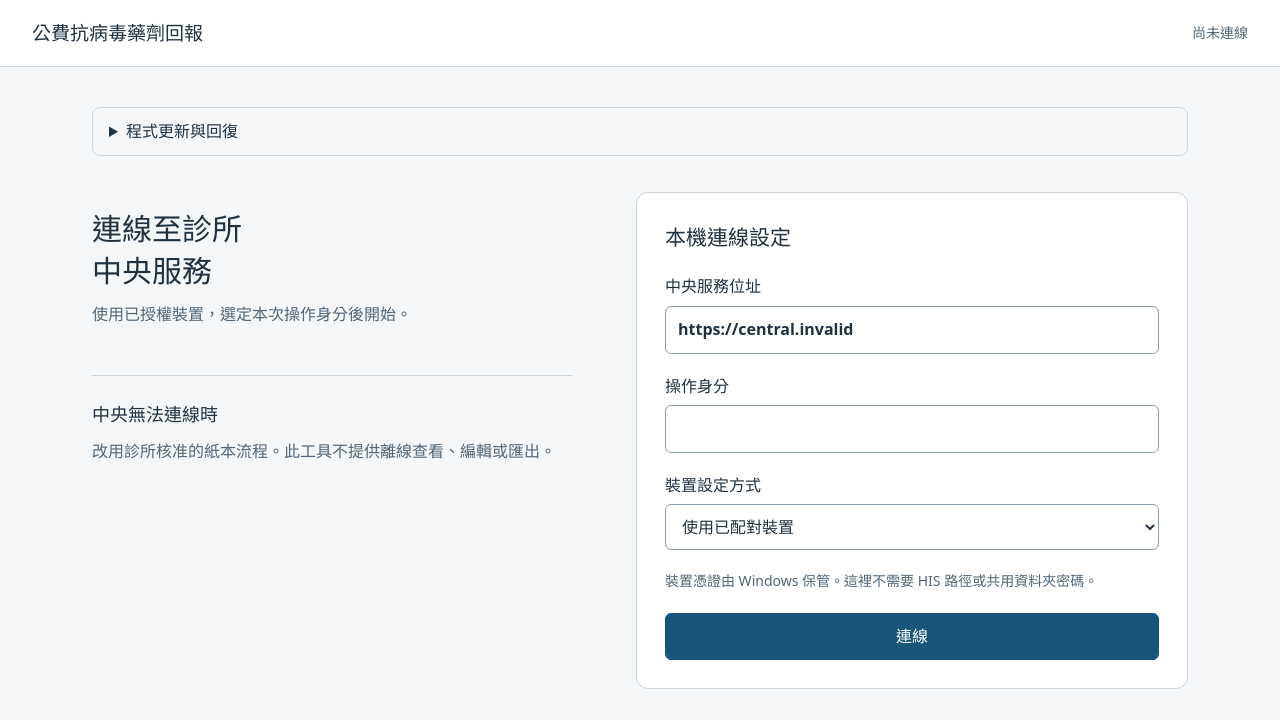
Test case: device loading, recoverable failure and empty recovery are explicit
Expected: the field showing "https://central.invalid" is shown, [665, 306, 1159, 354]
Type "管理者" into the field labelled "操作身分".
click(912, 429); type("管理者")  # box [665, 405, 1159, 453]
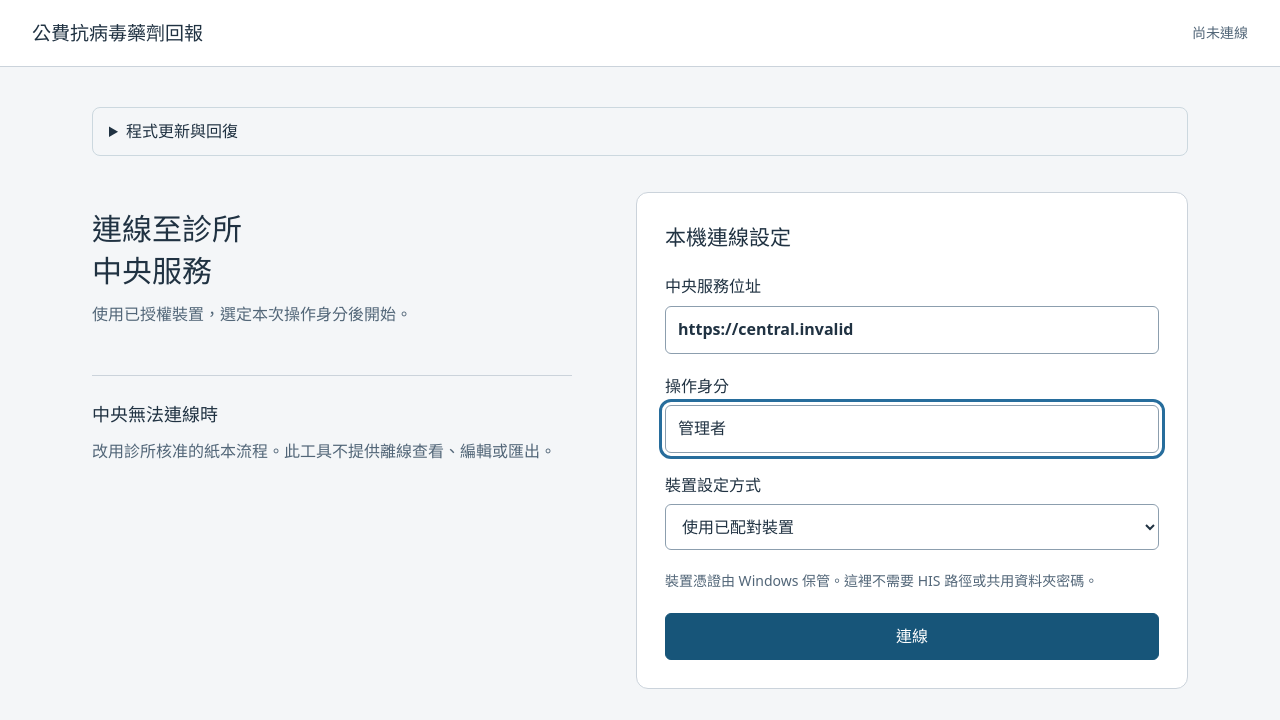
Click the button "連線".
click(912, 636)  # box [665, 613, 1159, 660]
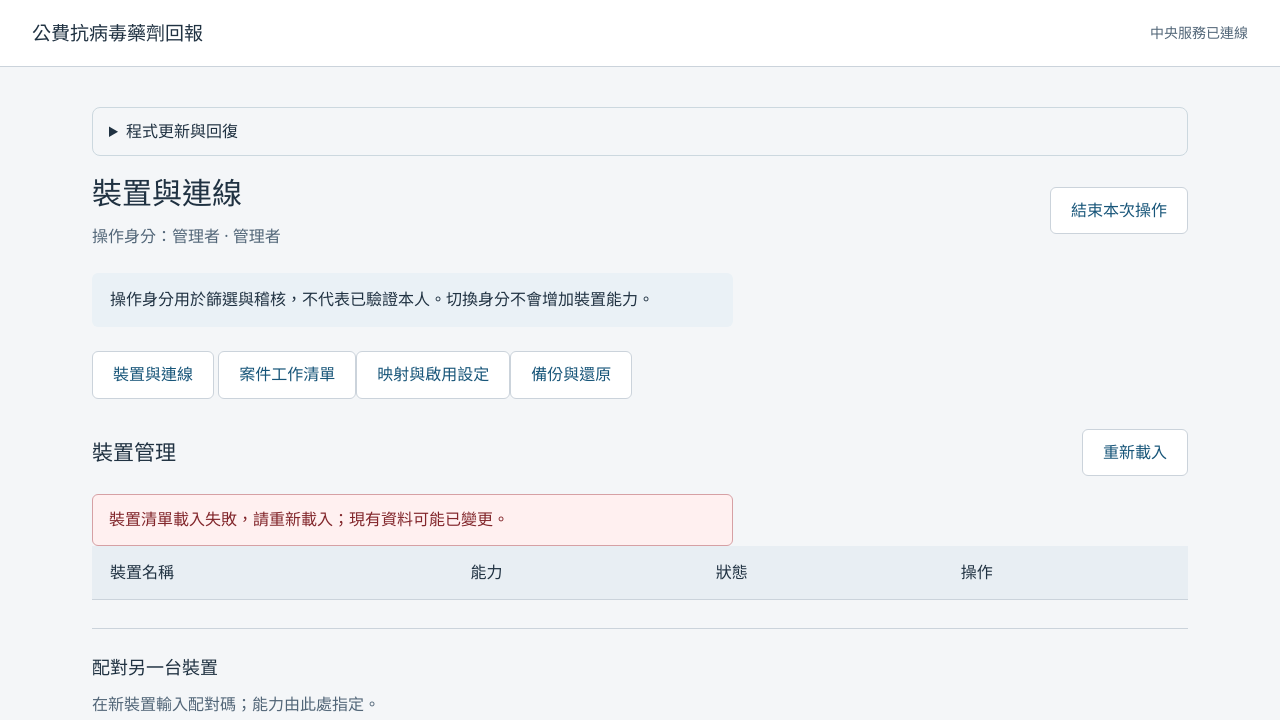
Result: the message shows "載入失敗" at [109, 508, 509, 530]
Click the button "重新載入".
click(1135, 452)  # box [1082, 428, 1188, 476]
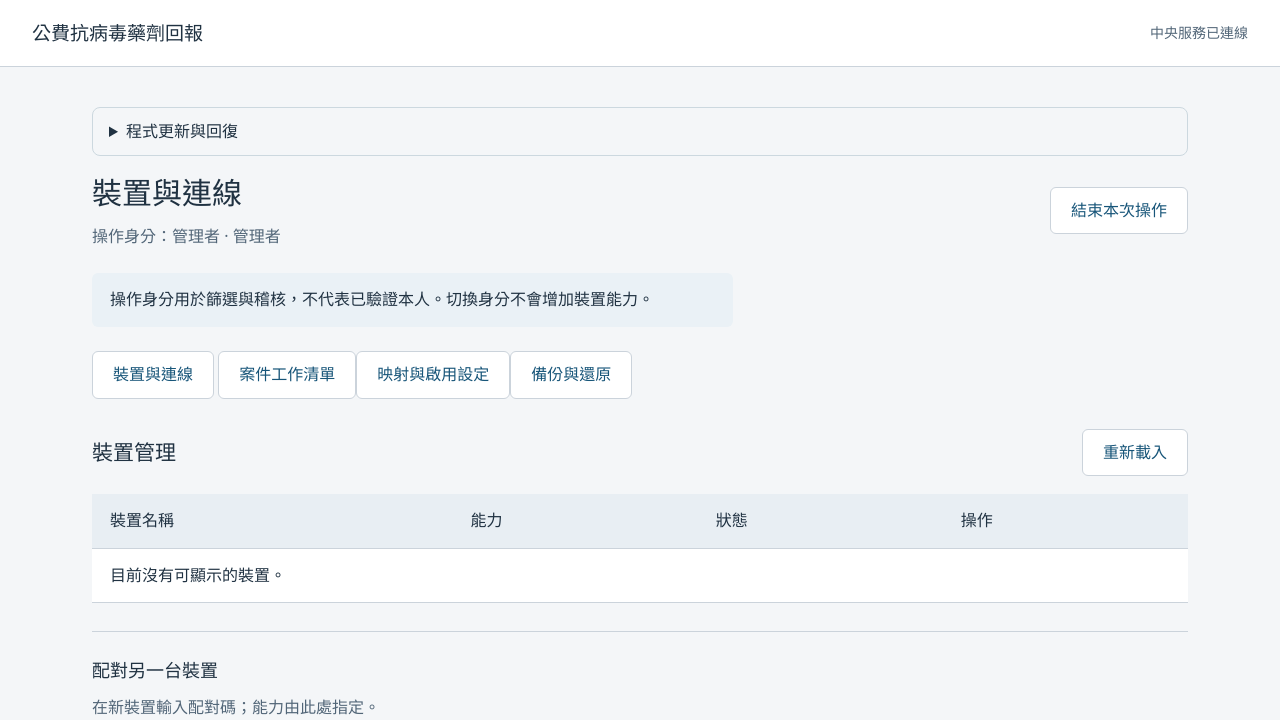
Result: the text "目前沒有可顯示的裝置。" is shown at [92, 548, 1188, 603]
Result: the message "裝置清單載入失敗，請重新載入；現有資料可能已變更。" is gone
